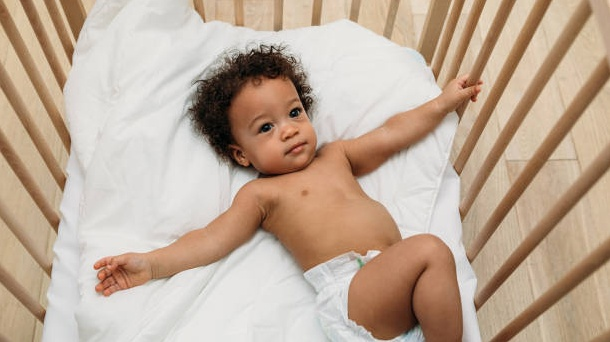baby: (94, 45, 480, 340)
crib: (193, 0, 609, 340)
